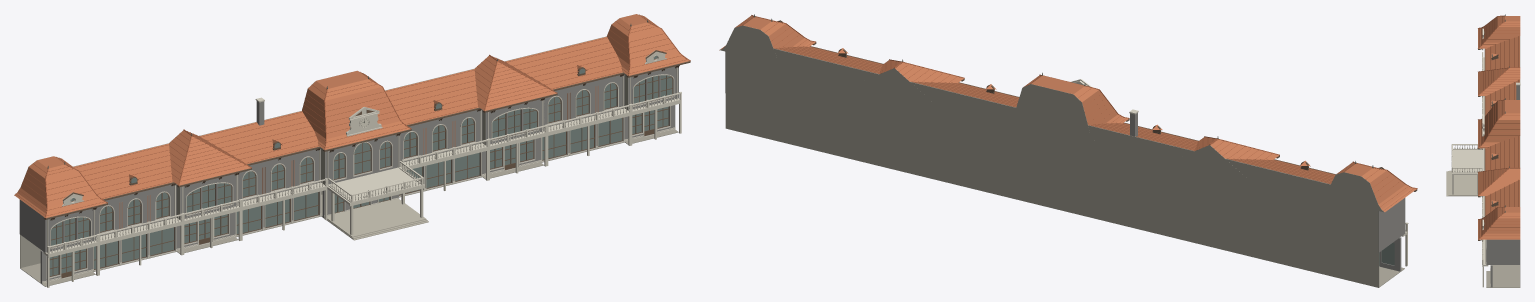
File: huangpu-science-hall-building-one-lod.glb
3 views of the same model, side by side, from view 1: azimuth 30°, elevation 25°; view 2: azimuth 150°, elevation 25°; view 3: azimuth 270°, elevation 25° (orthographic). The views are drawn at different scales.
Parts seen in each view (by area): view 1: 上海科学会堂一号楼（南花园五亭立面）; view 2: 上海科学会堂一号楼（南花园五亭立面）; view 3: 上海科学会堂一号楼（南花园五亭立面）.
Boxes of the visible parts, <box> form: 上海科学会堂一号楼（南花园五亭立面）: <box>14,14,690,287</box>; 上海科学会堂一号楼（南花园五亭立面）: <box>719,14,1417,287</box>; 上海科学会堂一号楼（南花园五亭立面）: <box>1446,14,1520,287</box>.
Bounding box in the file's own units: 104 × 18.23 × 15.38.
